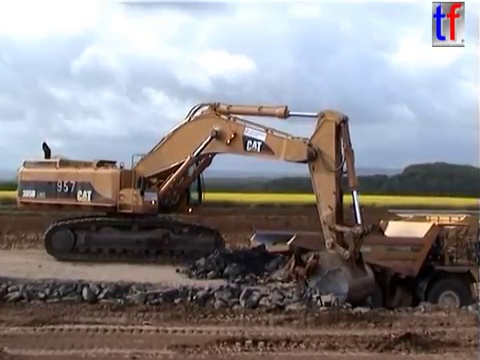excavator: (13, 99, 378, 312)
truck: (247, 208, 480, 330)
